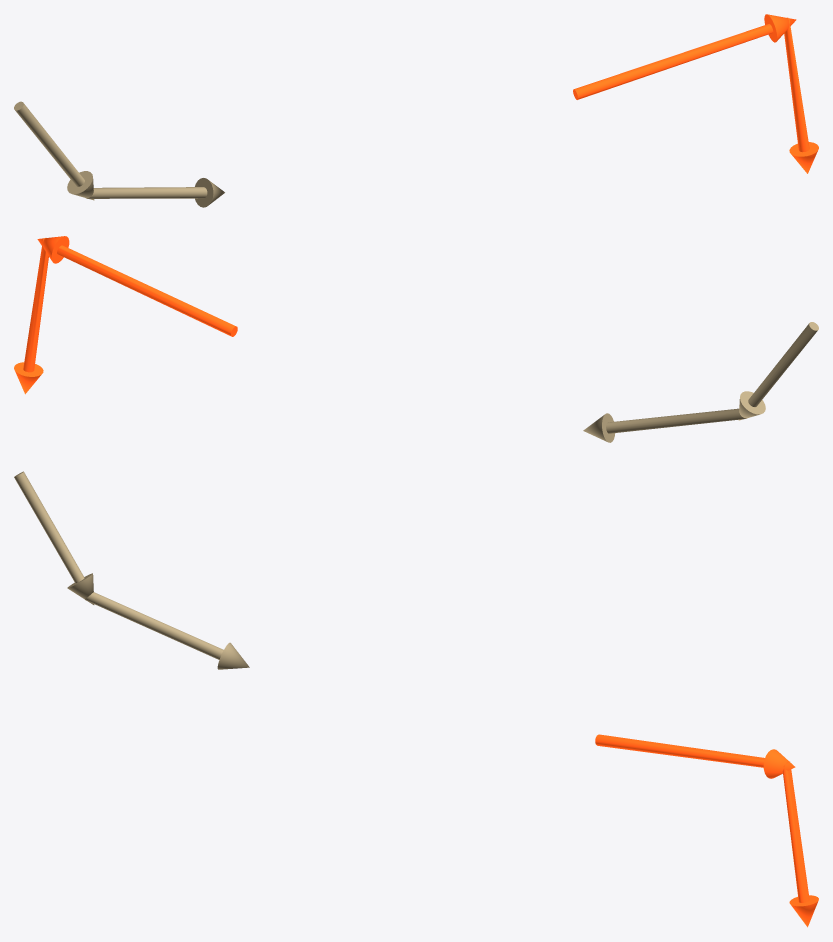
File: bauxite_grinding_mill_flow.glb
3 views of the same model, one above another, from view 1: azimuth 30°, elevation 25°; view 2: azimuth 150°, elevation 25°; view 3: azimuth 330°, elevation 25° (orthographic).
Visible parts, largest first — view 1: slurry, feed; view 2: slurry, feed; view 3: slurry, feed.
Boxes of the visible parts, x1,y1,x2,y2 form: slurry: (573, 14, 818, 173); feed: (14, 101, 224, 207); slurry: (14, 236, 237, 394); feed: (583, 322, 818, 442); slurry: (595, 734, 818, 927); feed: (14, 471, 249, 669).
Bounding box in the file's own units: 4.02 × 1.26 × 0.2191.
